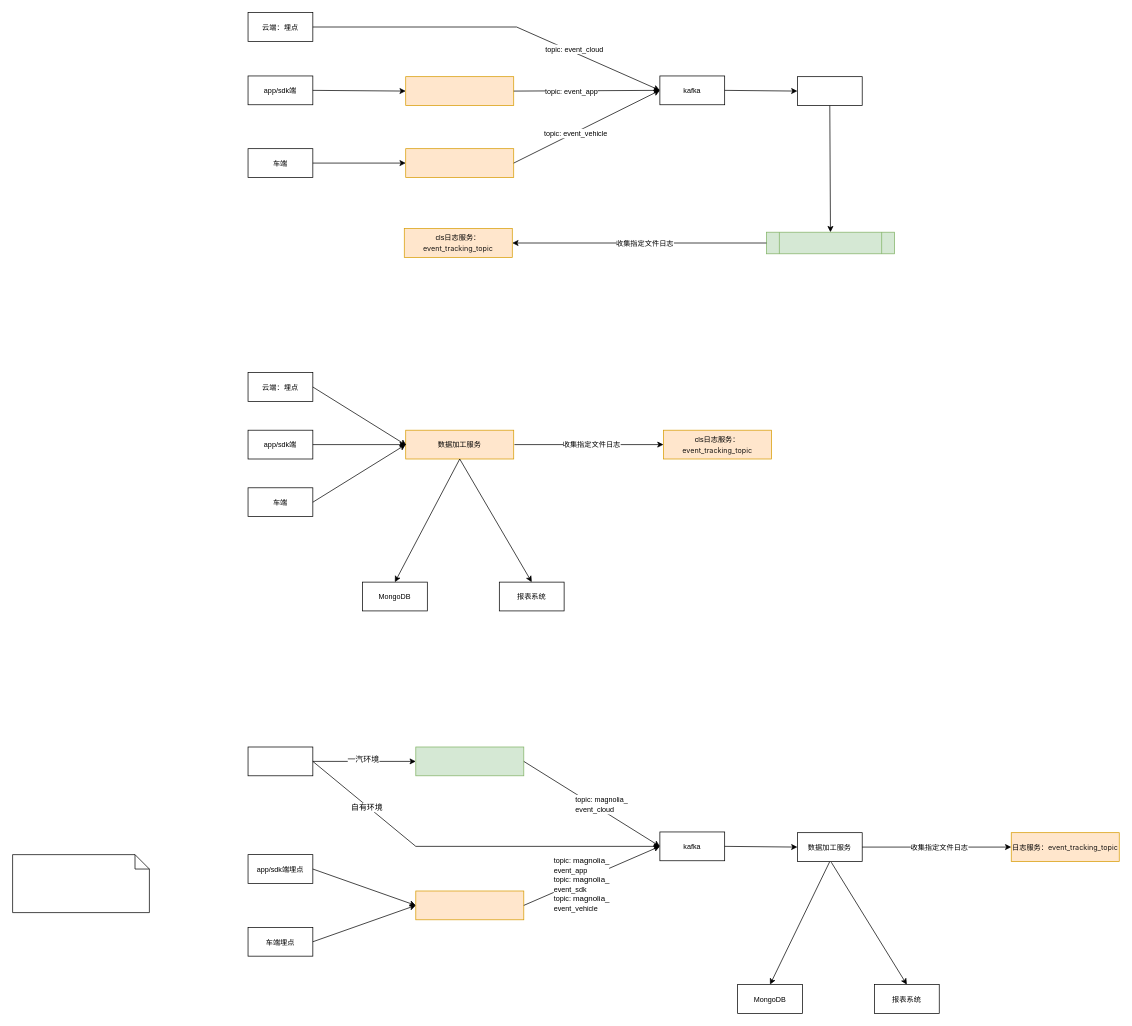
Some shapes in this 1132 by 1026 pixel diagram are drawn without their labels. Each missing label, with the centre of its shape:
"CLS" belongs at (469,761).
"cls日志服务： vehicle_controller_butler_topic" belongs at (459,90).
"cls日志服务： vehicle_log_topic" belongs at (459,162).
"一汽环境 UAT、Prod 自有环境 UAT、Prod" belongs at (80,883).
"云端埋点" belongs at (280,761).
"云端：数据加工" belongs at (829,90).
"使用埋点日志输出器 traceLog-logger" belongs at (830,242).
"打点服务器Nginx" belongs at (469,905).
